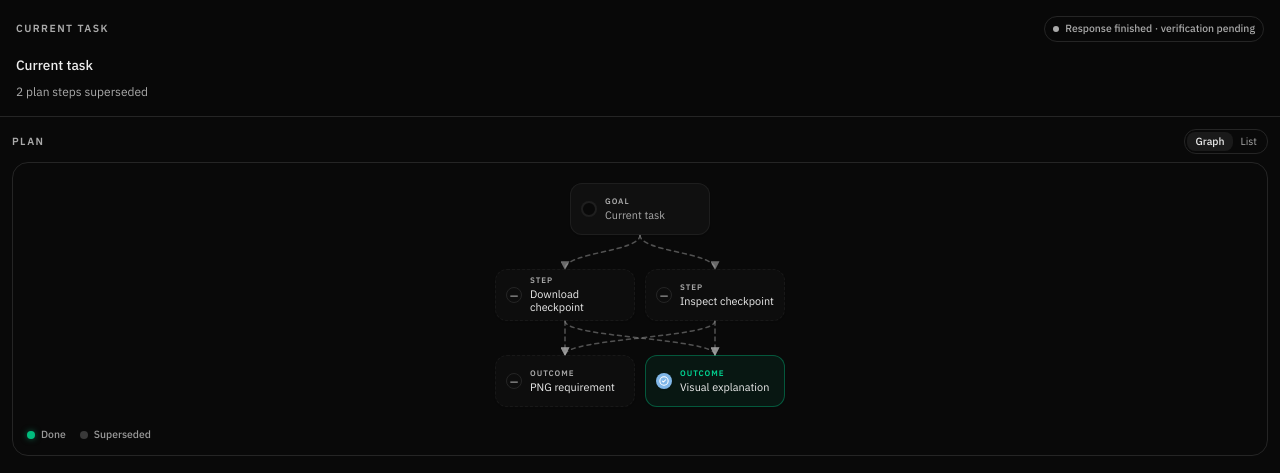
Test: live plan › retains superseded steps in the list without false checkmarks or invalid progress
Click the button "list".
click(1249, 142)  # box [1232,132,1265,151]
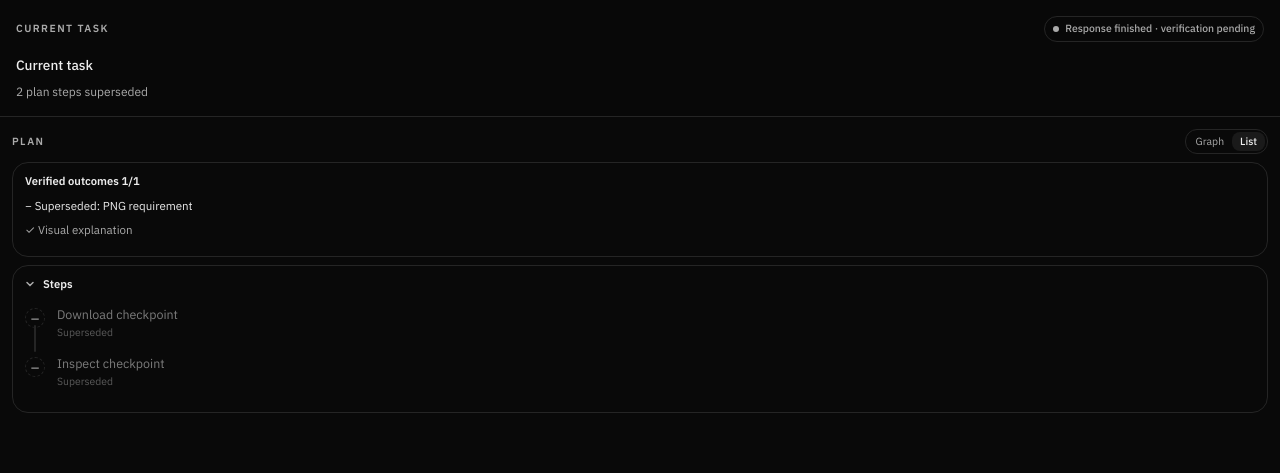
Expected: the text "superseded" is shown 2 times, [57,325,113,339]; [57,374,113,388]
Expected: the text "− Superseded: PNG requirement" is shown, [25,198,193,213]
Expected: the text "Verified outcomes 1/1" is shown, [25,174,140,188]
